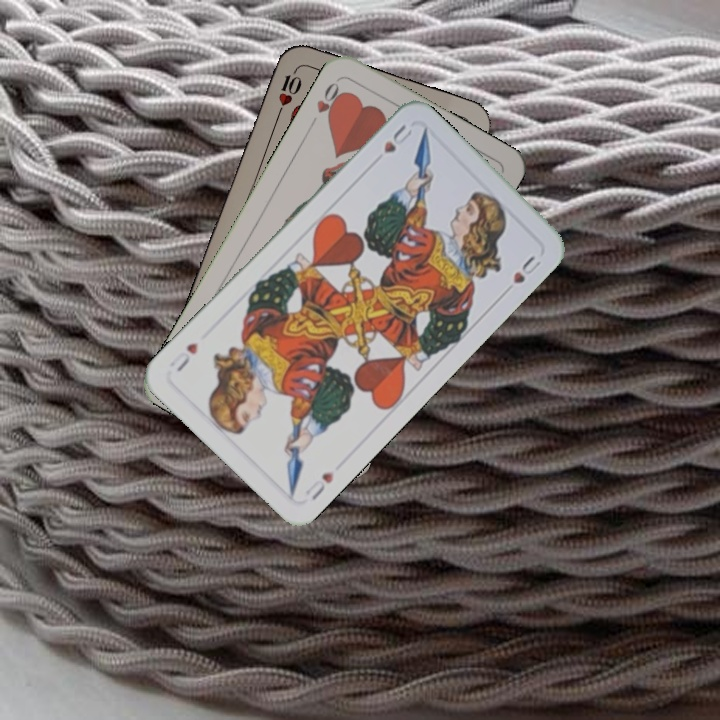H10: (272, 64, 303, 121)
HO: (312, 78, 348, 124)
HU: (379, 120, 415, 156), (301, 467, 336, 503)
